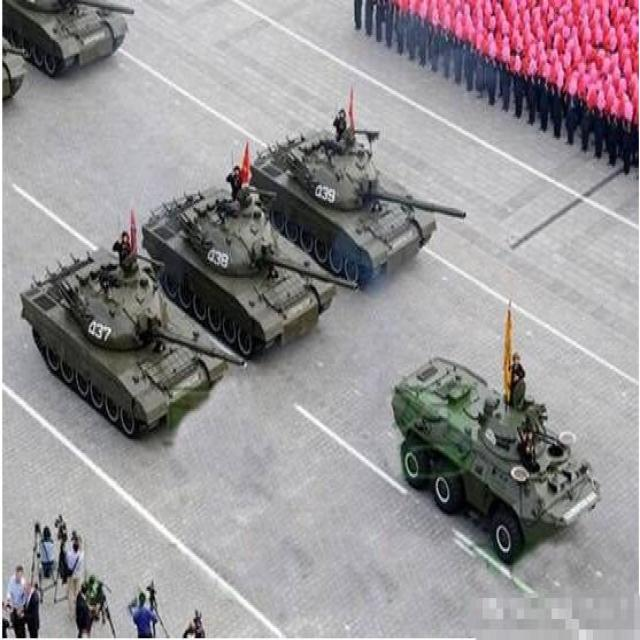tank: (389, 352, 608, 554), (22, 249, 245, 443), (258, 112, 466, 302), (142, 182, 356, 358)
